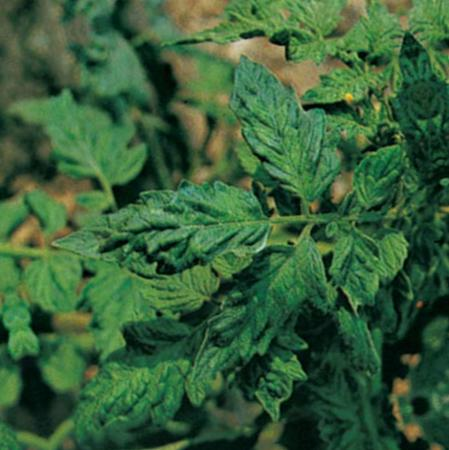Tomato leaf mosaic virus: (51, 162, 275, 309), (167, 226, 348, 381), (54, 307, 224, 450), (217, 46, 347, 214), (318, 210, 386, 321), (338, 143, 415, 219)
